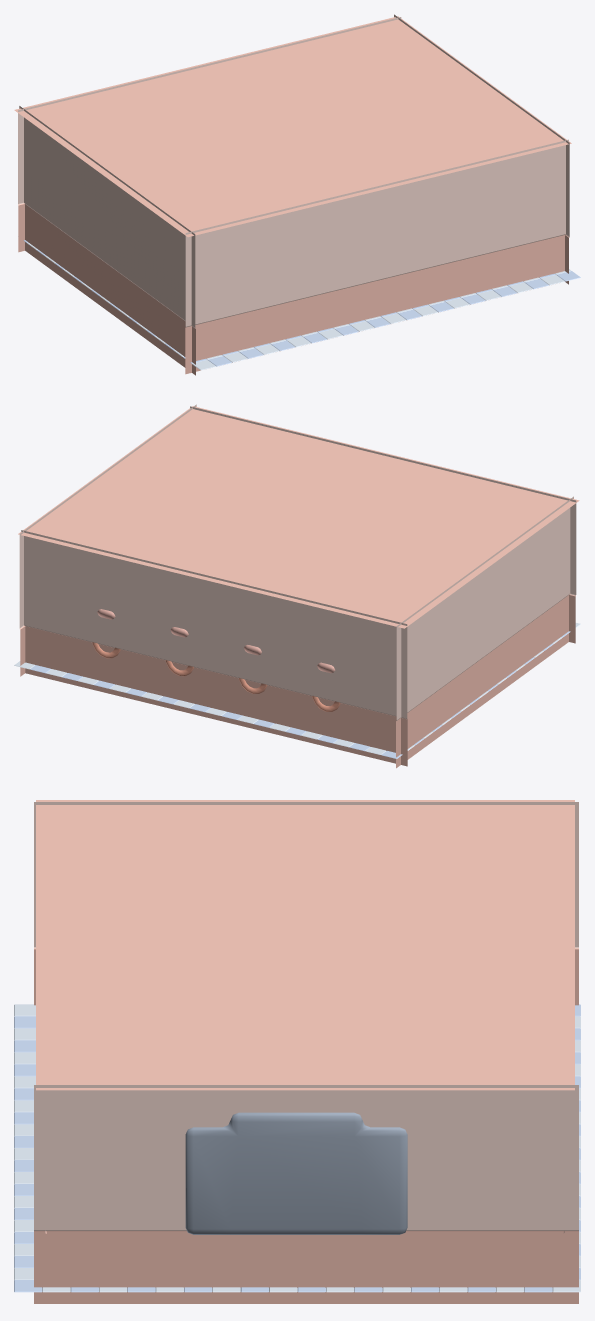
Rendered from Robby-0.2.0.fbx.
3 views of the same model, one above another, from view 1: azimuth 30°, elevation 25°; view 2: azimuth 150°, elevation 25°; view 3: azimuth 270°, elevation 25° (orthographic). The views are drawn at different scales.
Visible parts, largest first — view 1: Plane.004, Plane.002, Plane.003, Cube.002; view 2: Plane.004, Plane.002, Plane.003, Cube.002, Cube.003; view 3: Plane.004, Plane.003, Rank, Cube.002.
Boxes of the visible parts, <box> form: Plane.004: <box>14,16,571,237</box>; Plane.002: <box>18,17,568,374</box>; Plane.003: <box>19,14,569,375</box>; Cube.002: <box>23,240,580,370</box>; Plane.004: <box>18,406,579,628</box>; Plane.002: <box>21,406,576,766</box>; Plane.003: <box>19,404,573,768</box>; Cube.002: <box>14,623,580,758</box>; Cube.003: <box>92,609,340,711</box>; Plane.004: <box>36,800,574,1090</box>; Plane.003: <box>34,802,578,1303</box>; Rank: <box>185,1112,407,1234</box>; Cube.002: <box>14,1004,580,1292</box>.
Size of the model in its own units: 50.23 by 17.61 by 41.23.
